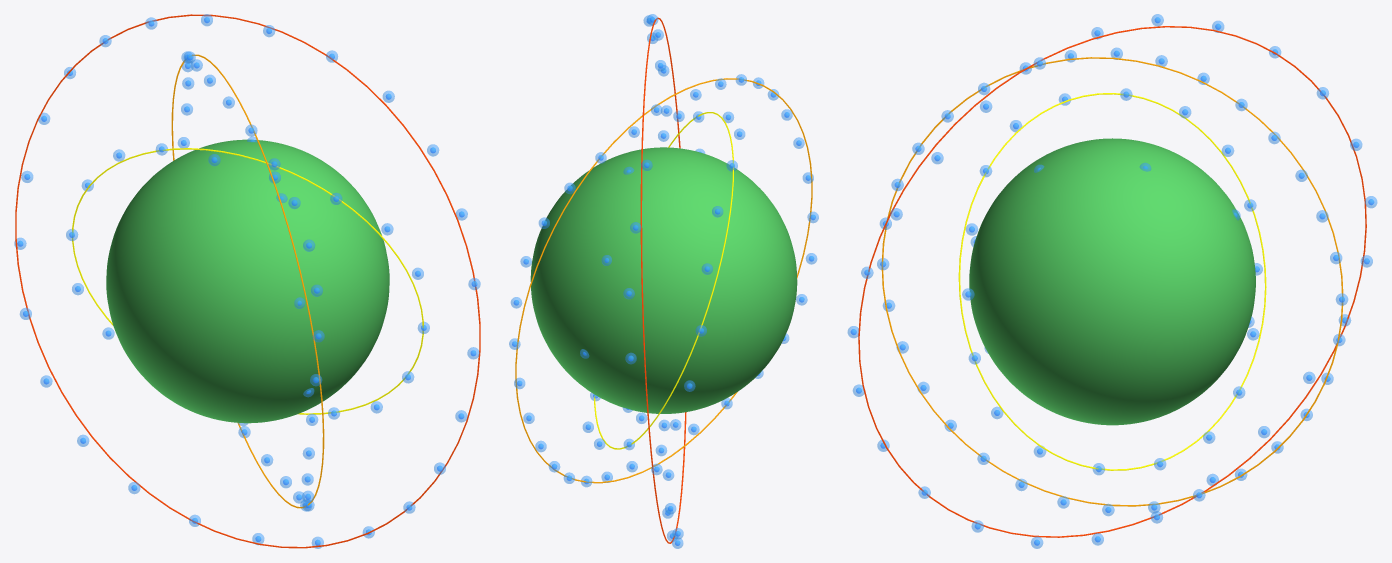
3 views of the same model, side by side, from view 1: azimuth 30°, elevation 25°; view 2: azimuth 150°, elevation 25°; view 3: azimuth 270°, elevation 25° (orthographic). The views are drawn at different scales.
Visible parts, largest first — view 1: At, object 126, object 24, object 61; view 2: At, object 61, object 126, object 24; view 3: At, object 126, object 61, object 24.
Part boxes in pixels (x1,y1,x2,y2): At: (106, 139, 389, 423); object 126: (15, 14, 480, 548); object 24: (72, 148, 423, 414); object 61: (171, 54, 324, 508); At: (530, 147, 797, 413); object 61: (515, 78, 812, 483); object 126: (640, 17, 686, 543); object 24: (594, 112, 733, 449); At: (969, 138, 1255, 425); object 126: (858, 26, 1366, 537); object 61: (881, 57, 1343, 506); object 24: (958, 93, 1266, 470).
Size of the model in its own units: 3.65 by 7.35 by 6.75.
